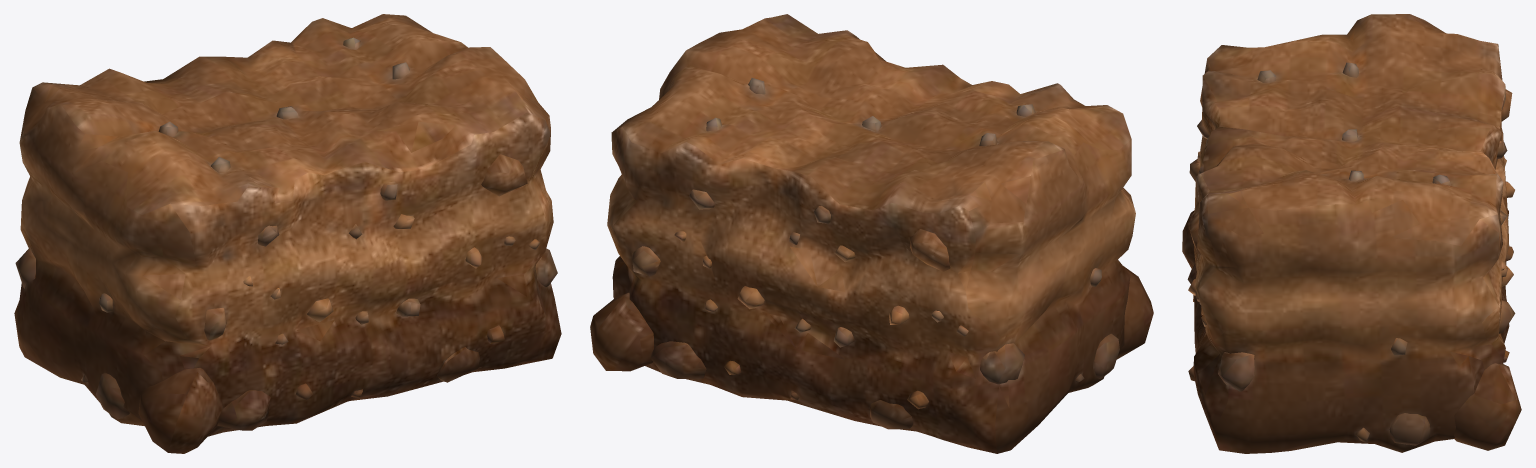
Rendered from soil_block.glb.
The picture shows the model from 3 angles, left to right: view 1: azimuth 30°, elevation 25°; view 2: azimuth 150°, elevation 25°; view 3: azimuth 270°, elevation 25°; orthographic projection. The views are drawn at different scales.
Visible parts, largest first — view 1: Mesh0; view 2: Mesh0; view 3: Mesh0.
Part boxes in pixels (x1,y1,x2,y2): Mesh0: (14,14,561,453); Mesh0: (590,14,1153,453); Mesh0: (1182,14,1521,453).
Size of the model in its own units: 1 by 0.6231 by 0.7339.
Materials: 1 (1 with a texture image).
